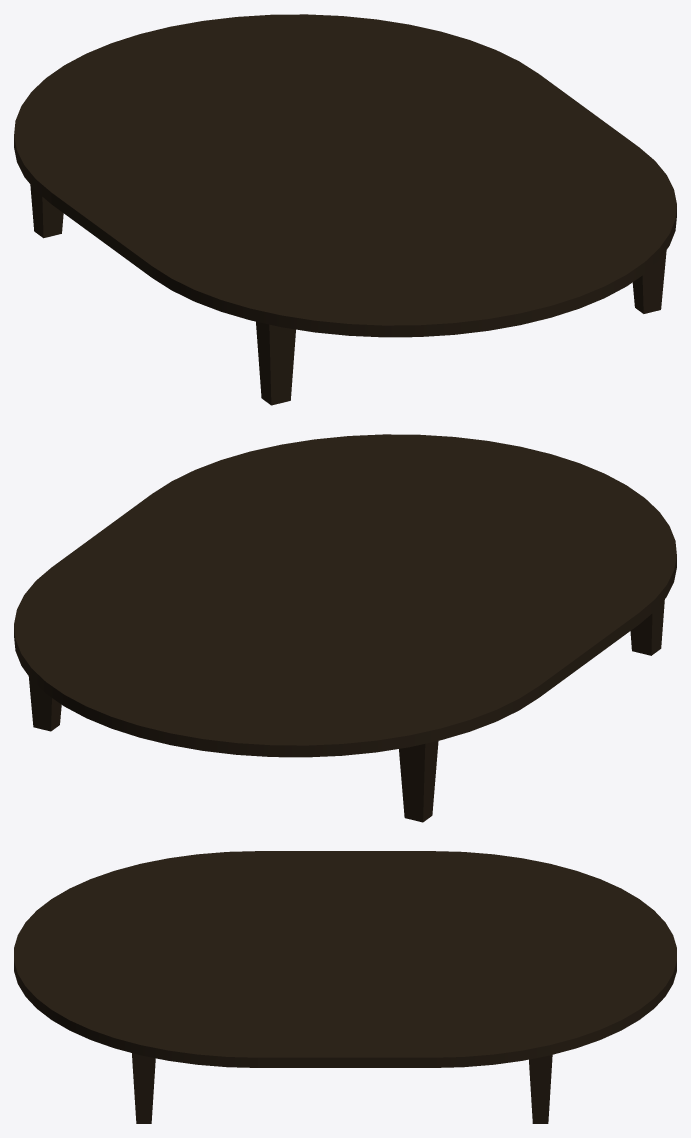
Rendered from Prop_sci_table1.FBX.
The picture shows the model from 3 angles, top to bottom: view 1: azimuth 30°, elevation 25°; view 2: azimuth 150°, elevation 25°; view 3: azimuth 270°, elevation 25°; orthographic projection. The views are drawn at different scales.
Visible parts, largest first — view 1: Prop_sci_tab_02, Prop_sci_tab_00, Prop_sci_tab_01, Prop_sci_tab_06, Prop_sci_tab_04, Prop_sci_tab_05; view 2: Prop_sci_tab_00, Prop_sci_tab_02, Prop_sci_tab_01, Prop_sci_tab_05, Prop_sci_tab_06, Prop_sci_tab_03; view 3: Prop_sci_tab_00, Prop_sci_tab_02, Prop_sci_tab_01, Prop_sci_tab_04, Prop_sci_tab_03.
Boxes of the visible parts, x1,y1,x2,y2 form: Prop_sci_tab_02: (152, 147, 676, 337); Prop_sci_tab_00: (14, 14, 538, 203); Prop_sci_tab_01: (51, 74, 638, 277); Prop_sci_tab_06: (256, 321, 295, 405); Prop_sci_tab_04: (632, 250, 666, 313); Prop_sci_tab_05: (30, 185, 63, 238); Prop_sci_tab_00: (14, 567, 538, 757); Prop_sci_tab_02: (152, 434, 676, 623); Prop_sci_tab_01: (52, 494, 639, 697); Prop_sci_tab_05: (399, 741, 438, 822); Prop_sci_tab_06: (630, 599, 664, 655); Prop_sci_tab_03: (28, 676, 61, 731); Prop_sci_tab_00: (433, 851, 676, 1067); Prop_sci_tab_02: (14, 851, 257, 1067); Prop_sci_tab_01: (258, 851, 432, 1067); Prop_sci_tab_04: (132, 1053, 155, 1123); Prop_sci_tab_03: (529, 1055, 552, 1123).
Bounding box in the file's own units: 57.27 × 11.18 × 77.63.
